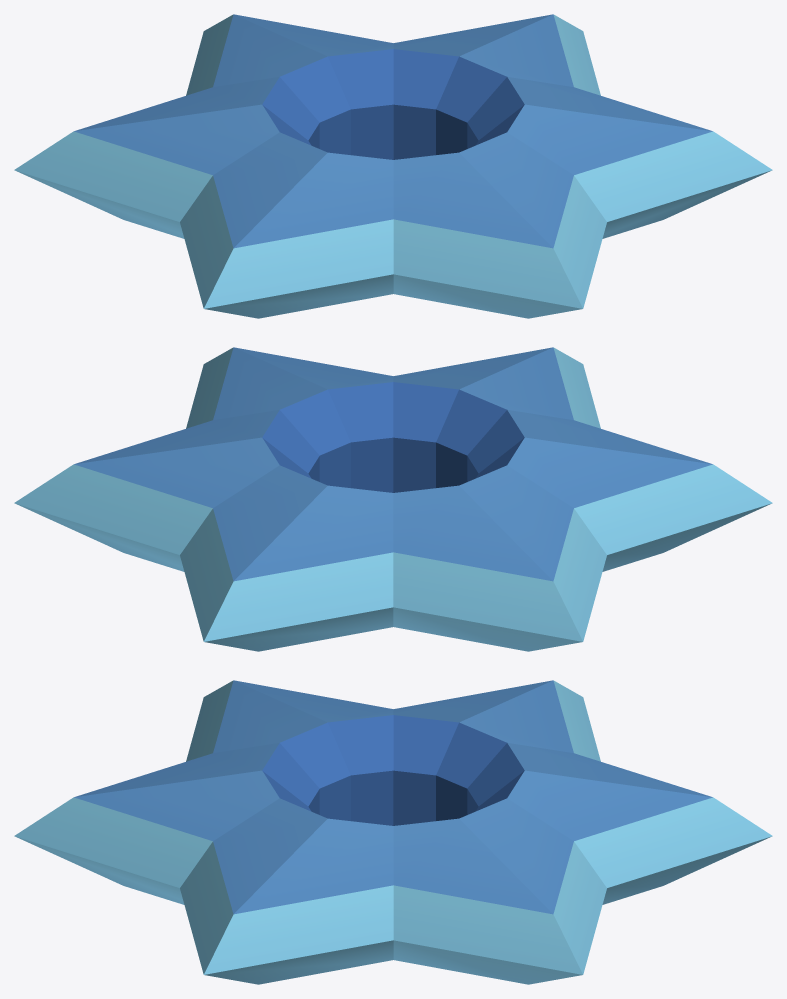
The model's file is SM_Star.fbx.
The picture shows the model from 3 angles, top to bottom: view 1: azimuth 30°, elevation 25°; view 2: azimuth 150°, elevation 25°; view 3: azimuth 270°, elevation 25°; orthographic projection.
Parts seen in each view (by area): view 1: SM_Star; view 2: SM_Star; view 3: SM_Star.
Part boxes in pixels (bbox=[...]): SM_Star: bbox=[14, 14, 772, 318]; SM_Star: bbox=[14, 347, 772, 651]; SM_Star: bbox=[14, 680, 772, 984].
Bounding box in the file's own units: 0.8117 × 0.1787 × 0.9373.
